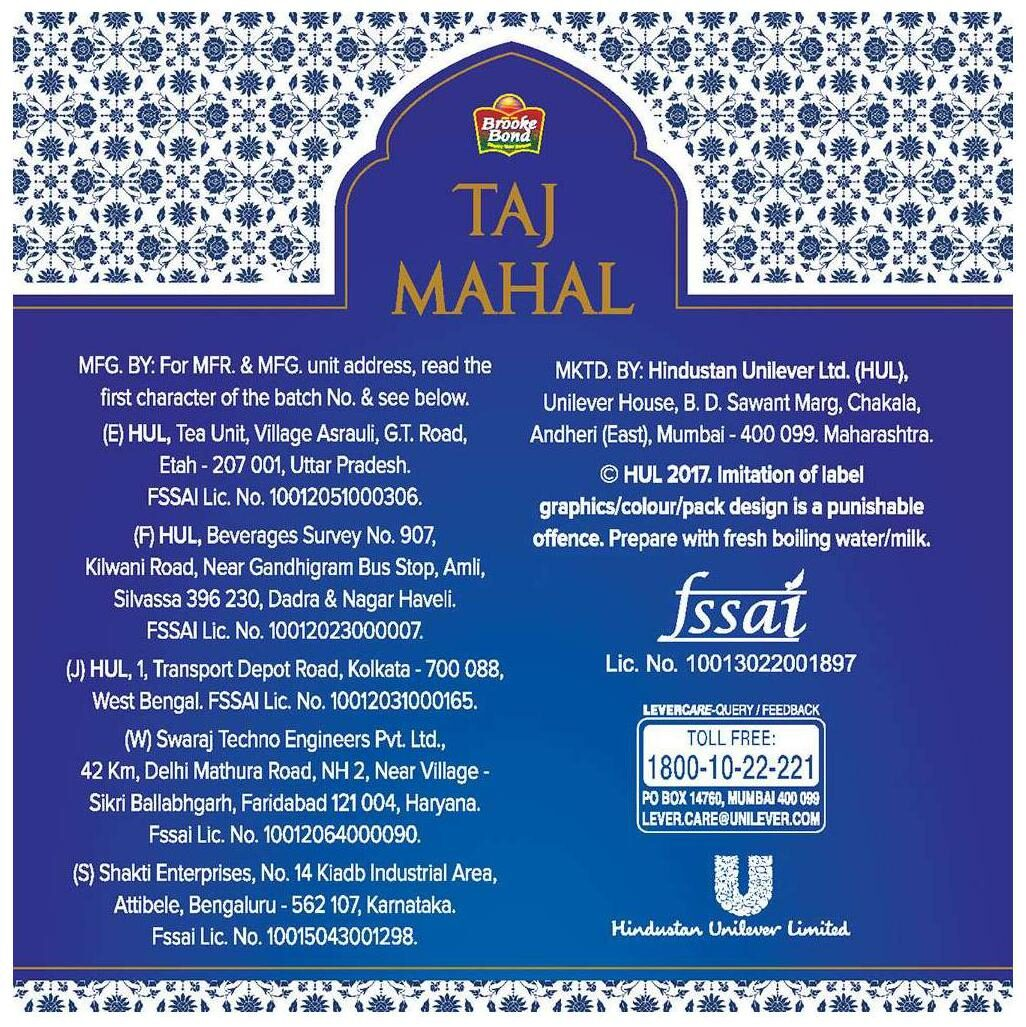fssai: (650, 570, 817, 646)
